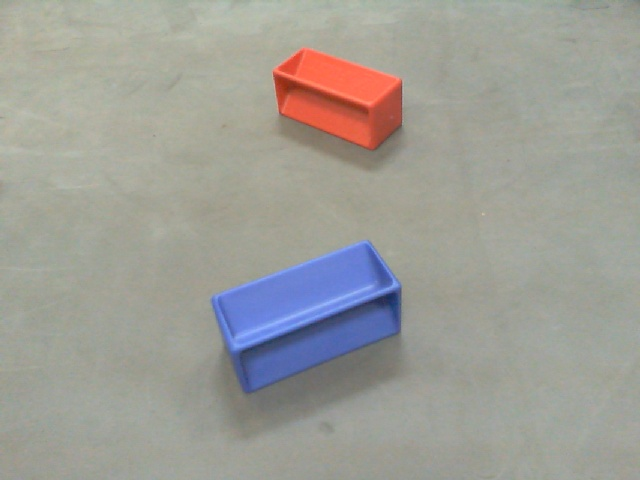BlueSample: (210, 238, 403, 394)
RedSample: (272, 45, 407, 150)
